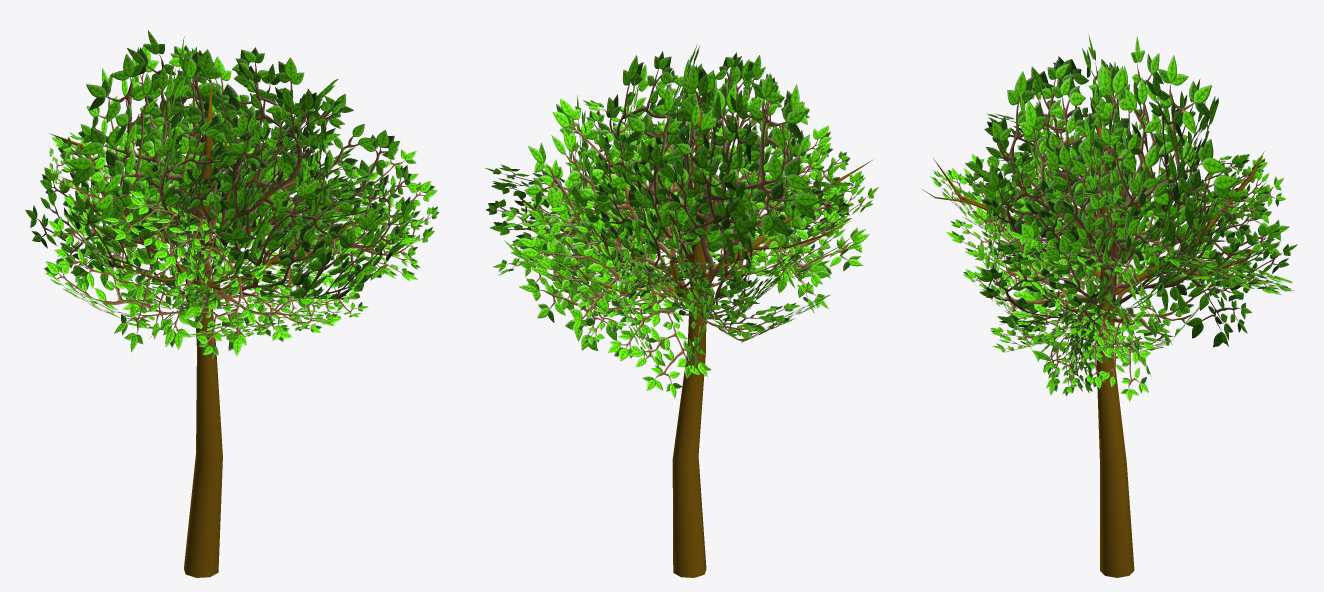
File: Tree.fbx
3 views of the same model, side by side, from view 1: azimuth 30°, elevation 25°; view 2: azimuth 150°, elevation 25°; view 3: azimuth 270°, elevation 25° (orthographic). The views are drawn at different scales.
Parts seen in each view (by area): view 1: Leaves, Tree_Trunk; view 2: Leaves, Tree_Trunk; view 3: Leaves, Tree_Trunk.
Part boxes in pixels (x1=…): Leaves: x1=25, y1=30, x2=439, y2=358; Tree_Trunk: x1=50, y1=81, x2=368, y2=577; Leaves: x1=485, y1=44, x2=878, y2=398; Tree_Trunk: x1=513, y1=93, x2=873, y2=577; Leaves: x1=930, y1=34, x2=1297, y2=401; Tree_Trunk: x1=922, y1=103, x2=1264, y2=577.
Size of the model in its own units: 13.62 by 17.47 by 12.26.
